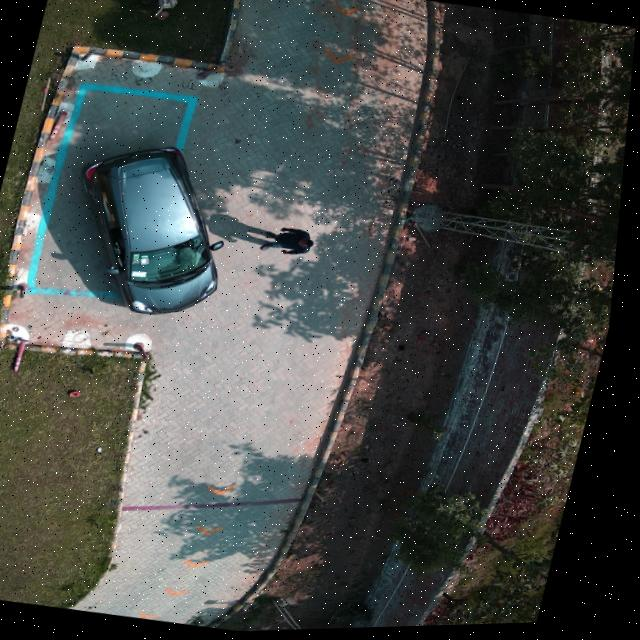car: (85, 148, 226, 316)
